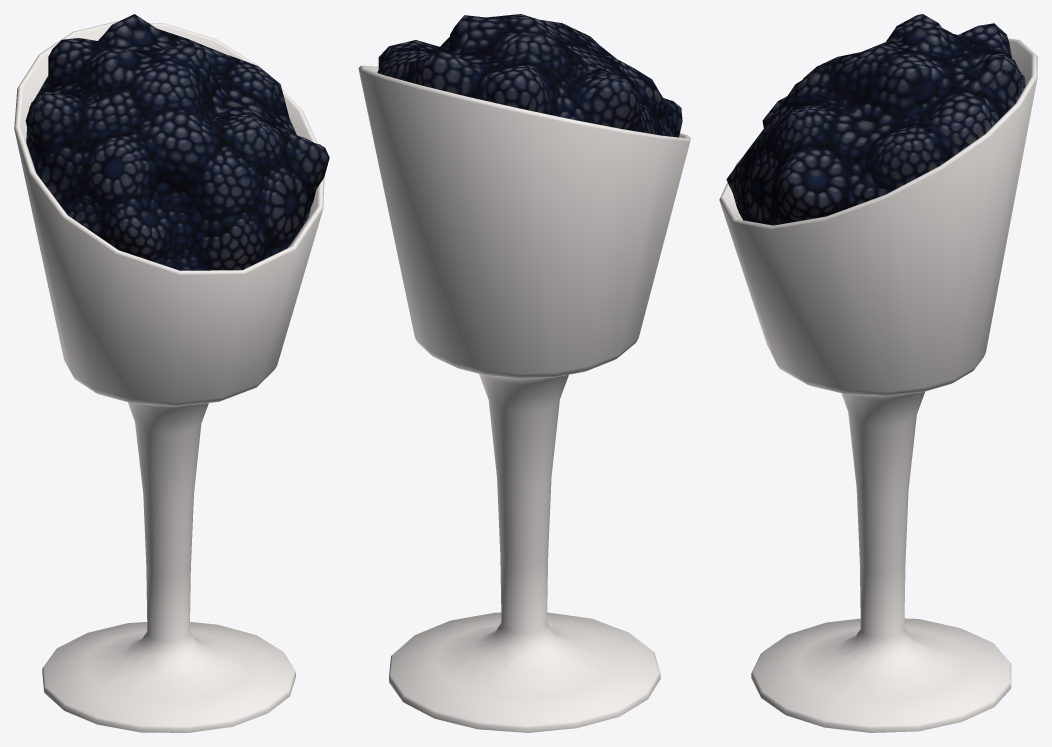
Rendered from BuffetBarries01_5.FBX.
The picture shows the model from 3 angles, left to right: view 1: azimuth 30°, elevation 25°; view 2: azimuth 150°, elevation 25°; view 3: azimuth 270°, elevation 25°; orthographic projection. The views are drawn at different scales.
Parts seen in each view (by area): view 1: BuffetBarries01_5; view 2: BuffetBarries01_5; view 3: BuffetBarries01_5.
Part boxes in pixels (box(x1,y1,x2,y2)): BuffetBarries01_5: box(14, 14, 329, 732); BuffetBarries01_5: box(358, 14, 690, 732); BuffetBarries01_5: box(719, 14, 1037, 732).
Size of what is drawn, in the model's own units: 0.1475 by 0.3213 by 0.1461.
